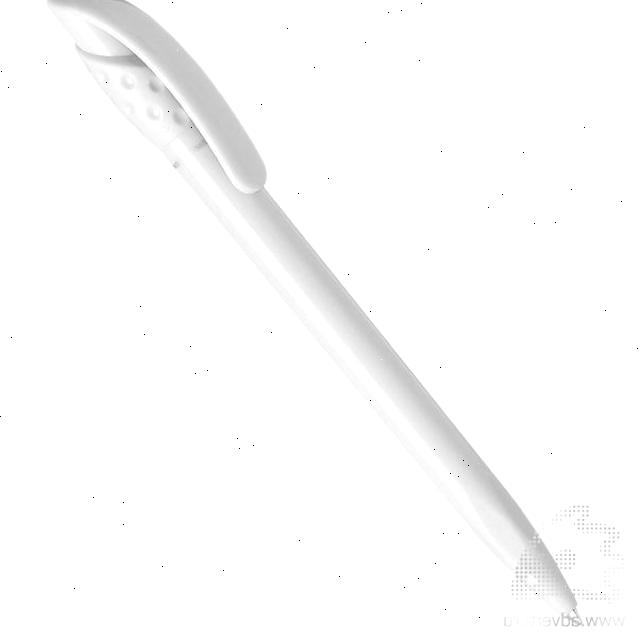pencil: (41, 0, 614, 640)
